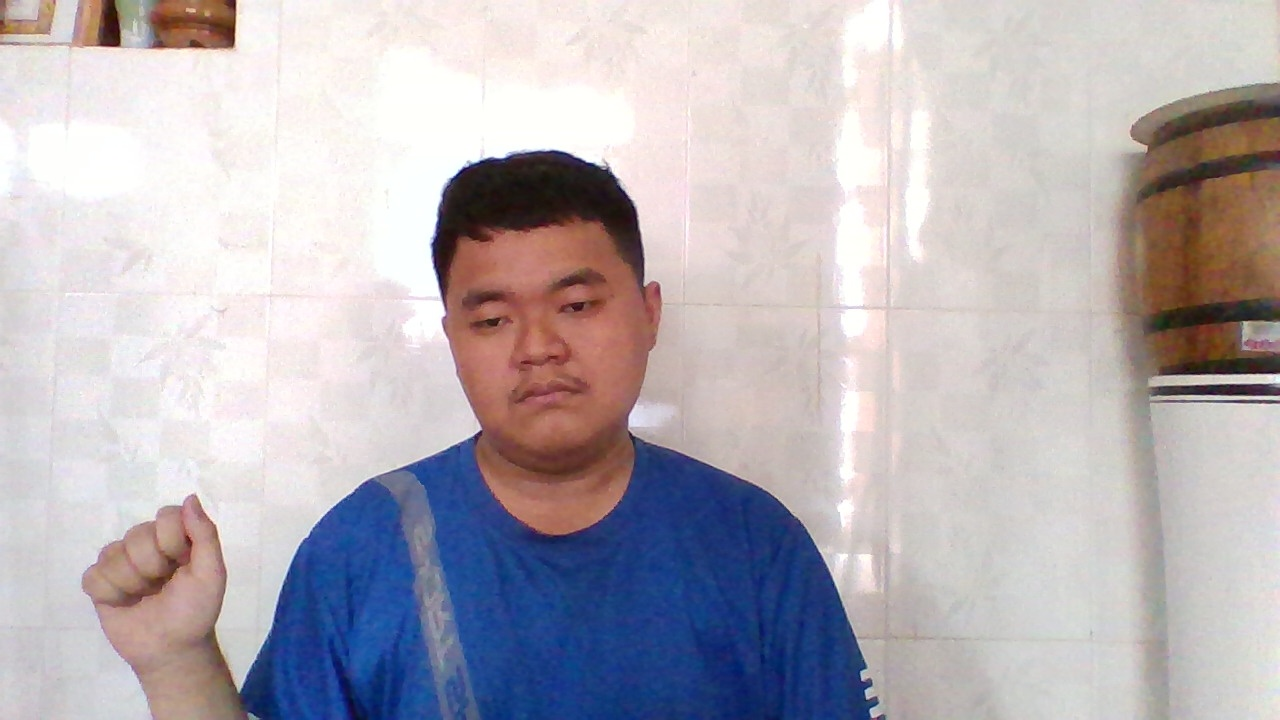A: (76, 488, 231, 667)
